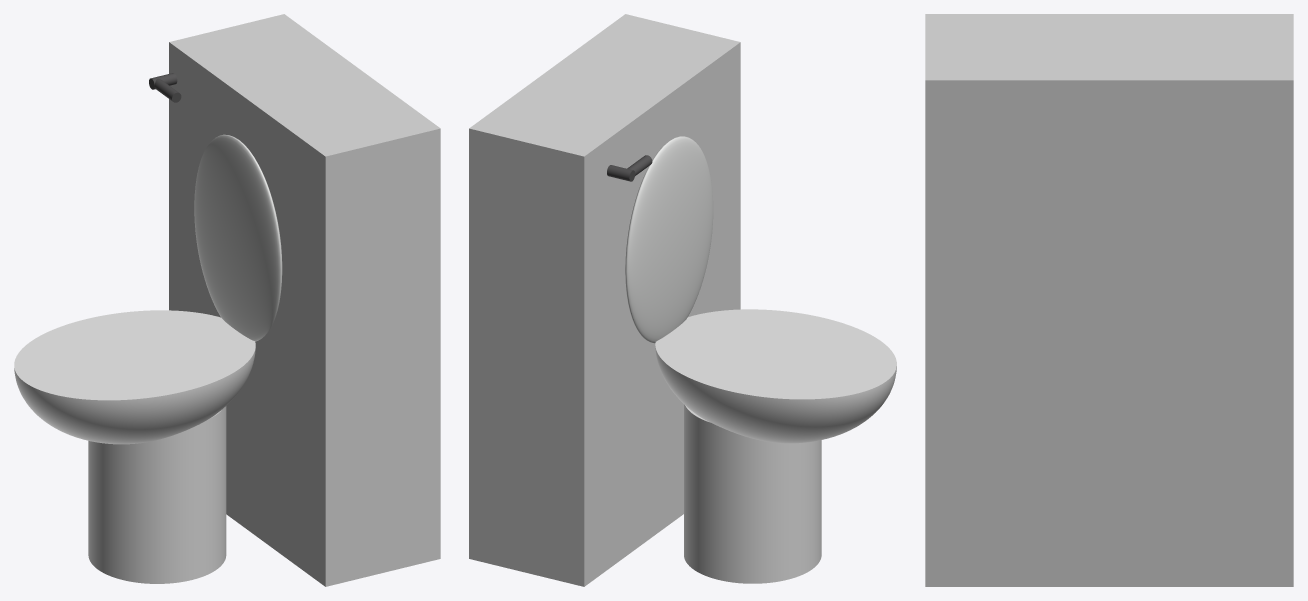
File: Toilet.fbx
3 views of the same model, side by side, from view 1: azimuth 30°, elevation 25°; view 2: azimuth 150°, elevation 25°; view 3: azimuth 270°, elevation 25° (orthographic). The views are drawn at different scales.
Parts seen in each view (by area): view 1: root (×4); view 2: root (×4); view 3: root.
Part boxes in pixels (left/top/right/bottom): root (×4): left=14, top=14, right=440, bottom=586; root (×4): left=469, top=14, right=896, bottom=586; root: left=925, top=14, right=1293, bottom=586.
Size of the model in its own units: 0.6456 by 0.7898 by 0.5167.
Materials: 6 (3 with a texture image).
